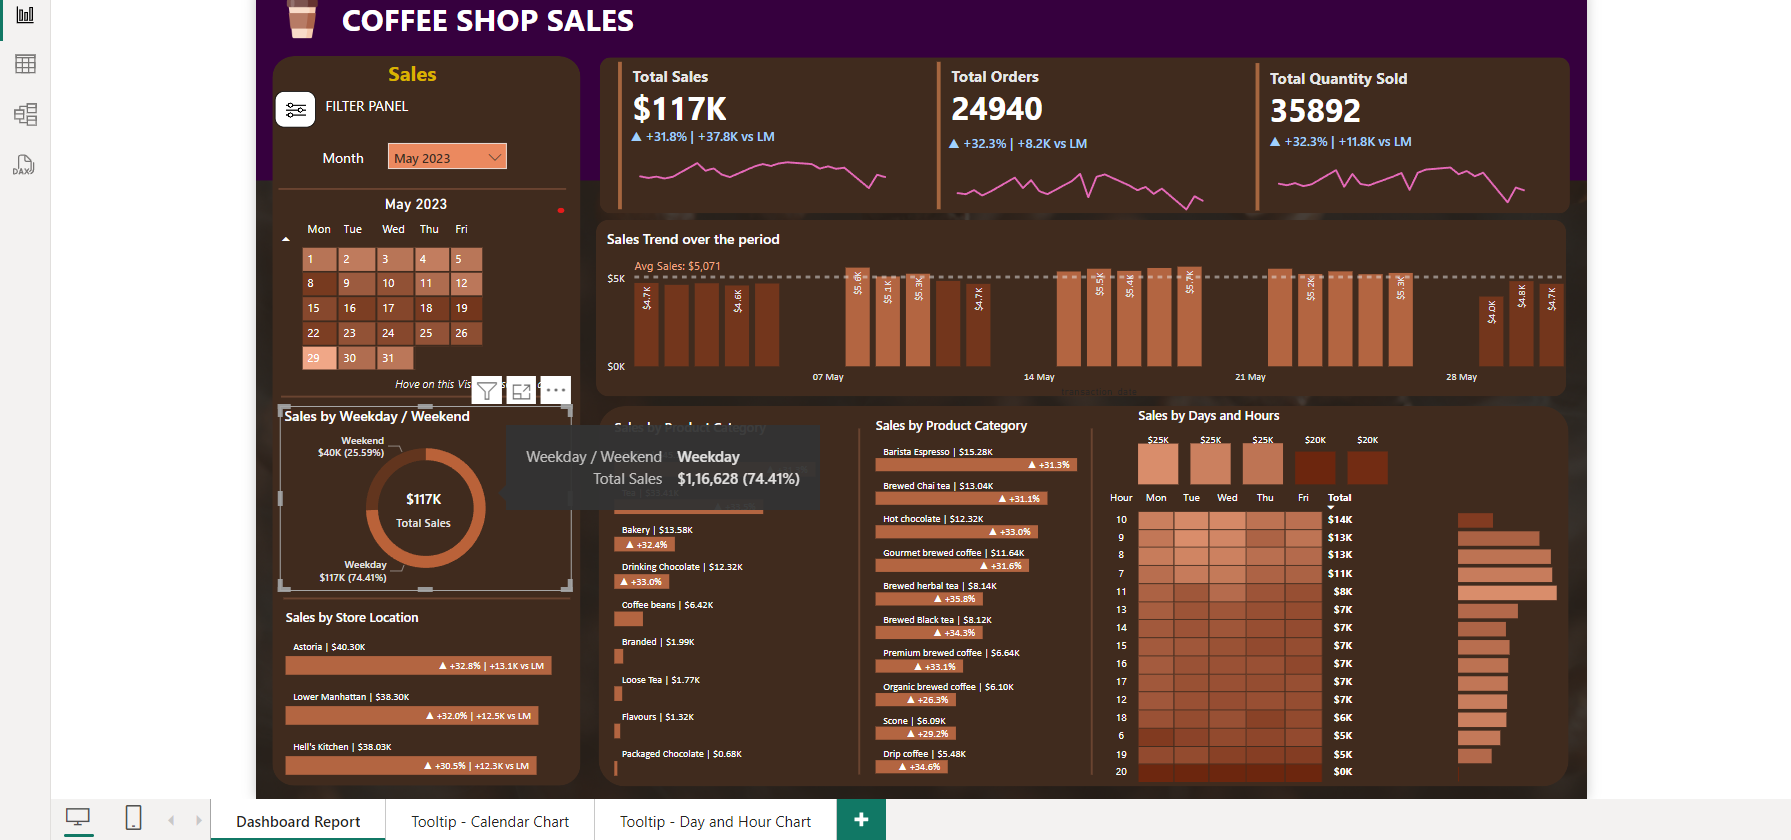

The page's visual inventory and layout, read from the dashboard file:
{"tool":"powerbi","page":{"name":"Dashboard Report","canvas":[1400,850],"ordinal":0},"visuals":[{"type":"shape","box":[0,0,1400.1,199.4],"z":0},{"type":"shape","box":[360,435.7,1020,400],"z":1000},{"type":"shape","box":[17.4,67.7,324.3,767.1],"z":2000},{"type":"shape","box":[361.1,69.1,1020,164.3],"z":3000},{"type":"textbox","box":[85.7,2.9,327.1,68.6],"z":4000},{"type":"cardVisual","fields":{"Data":["Transactions.Total Sales"]},"box":[375.7,70,300.5,165.2],"z":4000,"group":"g1"},{"type":"cardVisual","fields":{"Data":["Transactions.Total Orders"]},"box":[711.1,70,300.5,165.2],"z":4000,"group":"g2"},{"type":"cardVisual","fields":{"Data":["Transactions.Total Quantity"]},"box":[1046.6,71.5,300.5,165.2],"z":4000,"group":"g3"},{"type":"slicer","fields":{"Values":["Date Table.Month Year"]},"box":[134.3,155.7,134.3,48.6],"z":5000},{"type":"lineChart","fields":{"Y":["Transactions.Total Sales"],"Category":["Date Table.Date.Variation.Date Hierarchy.Year","Date Table.Date.Variation.Date Hierarchy.Quarter","Date Table.Date.Variation.Date Hierarchy.Month","Date Table.Date.Variation.Date Hierarchy.Day"]},"box":[388.5,144.1,287.7,85.5],"z":5001,"group":"g1"},{"type":"lineChart","fields":{"Y":["Transactions.Total Quantity Sold"],"Category":["Date Table.Date.Variation.Date Hierarchy.Year","Date Table.Date.Variation.Date Hierarchy.Quarter","Date Table.Date.Variation.Date Hierarchy.Month","Date Table.Date.Variation.Date Hierarchy.Day"]},"box":[1060.7,149,287.7,85.5],"z":5001,"group":"g3"},{"type":"lineChart","fields":{"Y":["Transactions.Total Orders"],"Category":["Date Table.Date.Variation.Date Hierarchy.Year","Date Table.Date.Variation.Date Hierarchy.Quarter","Date Table.Date.Variation.Date Hierarchy.Month","Date Table.Date.Variation.Date Hierarchy.Day"]},"box":[722.8,151.7,287.7,85.5],"z":5001,"group":"g2"},{"type":"group","id":"g1","title":"Group 1","box":[375.7,70,300.5,165.2],"z":6000},{"type":"group","id":"g2","title":"Group 1","box":[711.1,70,300.5,166.6],"z":7000},{"type":"group","id":"g3","title":"Group 1","box":[1046.6,71.5,301.9,165.2],"z":8000},{"type":"pivotTable","fields":{"Rows":["Date Table.Week Number"],"Columns":["Date Table.Day Name"],"Values":["Min(Date Table.Day Number)"]},"box":[17.5,233.8,313.8,191.2],"z":9000},{"type":"card","fields":{"Values":["Min(Date Table.Month Year)"]},"box":[100,202.5,137.5,45],"z":10000},{"type":"card","fields":{"Values":["Transactions.Footnote"]},"box":[132.5,400,208.8,32.5],"z":11000},{"type":"shape","box":[25.7,410,302.9,32.9],"z":12000},{"type":"shape","box":[23.8,191.2,302.5,32.5],"z":13000},{"type":"donutChart","title":"Sales by Weekday / Weekend","fields":{"Y":["Transactions.Total Sales"],"Category":["Date Table.Weekday / Weekend"]},"box":[25,436.2,307.5,195],"z":14000},{"type":"card","fields":{"Values":["Transactions.Total Sales"]},"box":[128.8,518.8,95,51.2],"z":15000},{"type":"shape","box":[28.6,622.9,301.4,31.4],"z":16000},{"type":"shape","box":[357.1,240,1020,185.7],"z":17000},{"type":"clusteredBarChart","title":"Sales by Store Location","fields":{"Category":["Transactions.store_location"],"Y":["Transactions.Placeholder","Transactions.Total Sales"]},"box":[25.7,648.6,317.1,182.9],"z":18000},{"type":"columnChart","title":"Sales Trend over the period","fields":{"Category":["Transactions.transaction_date"],"Y":["Transactions.Total Sales"]},"box":[363.4,250.3,1020,182.9],"z":19000},{"type":"shape","box":[615.7,460.6,35.7,363.7],"z":20000},{"type":"clusteredBarChart","title":"Sales by Product Category","fields":{"Y":["Transactions.Placeholder","Transactions.Total Sales"],"Category":["Transactions.product_category"]},"box":[372,450,250,381.4],"z":21000},{"type":"clusteredBarChart","title":"Sales by Product Category","fields":{"Y":["Transactions.Placeholder","Transactions.Total Sales"],"Category":["Transactions.product_type"]},"box":[646.6,447.4,250,381.4],"z":22000},{"type":"shape","box":[861.4,460,35.7,364.3],"z":23000},{"type":"pivotTable","fields":{"Rows":["Transactions.Hour"],"Columns":["Date Table.Day Name"],"Values":["Transactions.Total Sales"]},"box":[887.1,520,370,318.6],"z":24000},{"type":"barChart","fields":{"Category":["Transactions.Hour"],"Y":["Transactions.Total Sales"]},"box":[1258.6,535.7,122.9,300],"z":25000},{"type":"columnChart","title":"Sales by Days and Hours","fields":{"Category":["Date Table.Day Name"],"Y":["Transactions.Total Sales"]},"box":[922.9,435.7,274.3,88.6],"z":26000},{"type":"textbox","box":[48.6,160,85.7,44.3],"z":27000},{"type":"textbox","box":[134.3,67.1,90,52.9],"z":28000},{"type":"textbox","box":[48.6,105.7,135.7,41.4],"z":29000},{"type":"image","box":[20,105.7,42.9,38.6],"z":30000},{"type":"image","box":[11.4,0,74.3,54.3],"z":31000}]}

Visuals, with their boxes on the page's 1400x850 design canvas (x1, y1, x2, y2). These are canvas units, not pixel positions in the 1791x840 screenshot, which may show the page scaled, cropped or inside an application window:
shape: {"x1": 0, "y1": 0, "x2": 1400, "y2": 199}
shape: {"x1": 360, "y1": 436, "x2": 1380, "y2": 836}
shape: {"x1": 17, "y1": 68, "x2": 342, "y2": 835}
shape: {"x1": 361, "y1": 69, "x2": 1381, "y2": 233}
textbox: {"x1": 86, "y1": 3, "x2": 413, "y2": 72}
cardVisual - Transactions.Total Sales: {"x1": 376, "y1": 70, "x2": 676, "y2": 235}
cardVisual - Transactions.Total Orders: {"x1": 711, "y1": 70, "x2": 1012, "y2": 235}
cardVisual - Transactions.Total Quantity: {"x1": 1047, "y1": 72, "x2": 1347, "y2": 237}
slicer - Date Table.Month Year: {"x1": 134, "y1": 156, "x2": 269, "y2": 204}
lineChart - Transactions.Total Sales x Date Table.Date.Variation.Date Hierarchy.Year: {"x1": 388, "y1": 144, "x2": 676, "y2": 230}
lineChart - Transactions.Total Quantity Sold x Date Table.Date.Variation.Date Hierarchy.Year: {"x1": 1061, "y1": 149, "x2": 1348, "y2": 234}
lineChart - Transactions.Total Orders x Date Table.Date.Variation.Date Hierarchy.Year: {"x1": 723, "y1": 152, "x2": 1010, "y2": 237}
"Group 1" group: {"x1": 376, "y1": 70, "x2": 676, "y2": 235}
"Group 1" group: {"x1": 711, "y1": 70, "x2": 1012, "y2": 237}
"Group 1" group: {"x1": 1047, "y1": 72, "x2": 1348, "y2": 237}
pivotTable - Date Table.Week Number x Date Table.Day Name: {"x1": 18, "y1": 234, "x2": 331, "y2": 425}
card - Min(Date Table.Month Year): {"x1": 100, "y1": 202, "x2": 238, "y2": 248}
card - Transactions.Footnote: {"x1": 132, "y1": 400, "x2": 341, "y2": 432}
shape: {"x1": 26, "y1": 410, "x2": 329, "y2": 443}
shape: {"x1": 24, "y1": 191, "x2": 326, "y2": 224}
"Sales by Weekday / Weekend" donutChart: {"x1": 25, "y1": 436, "x2": 332, "y2": 631}
card - Transactions.Total Sales: {"x1": 129, "y1": 519, "x2": 224, "y2": 570}
shape: {"x1": 29, "y1": 623, "x2": 330, "y2": 654}
shape: {"x1": 357, "y1": 240, "x2": 1377, "y2": 426}
"Sales by Store Location" clusteredBarChart: {"x1": 26, "y1": 649, "x2": 343, "y2": 832}
"Sales Trend over the period" columnChart: {"x1": 363, "y1": 250, "x2": 1383, "y2": 433}
shape: {"x1": 616, "y1": 461, "x2": 651, "y2": 824}
"Sales by Product Category" clusteredBarChart: {"x1": 372, "y1": 450, "x2": 622, "y2": 831}
"Sales by Product Category" clusteredBarChart: {"x1": 647, "y1": 447, "x2": 897, "y2": 829}
shape: {"x1": 861, "y1": 460, "x2": 897, "y2": 824}
pivotTable - Transactions.Hour x Date Table.Day Name: {"x1": 887, "y1": 520, "x2": 1257, "y2": 839}
barChart - Transactions.Hour x Transactions.Total Sales: {"x1": 1259, "y1": 536, "x2": 1382, "y2": 836}
"Sales by Days and Hours" columnChart: {"x1": 923, "y1": 436, "x2": 1197, "y2": 524}
textbox: {"x1": 49, "y1": 160, "x2": 134, "y2": 204}
textbox: {"x1": 134, "y1": 67, "x2": 224, "y2": 120}
textbox: {"x1": 49, "y1": 106, "x2": 184, "y2": 147}
image: {"x1": 20, "y1": 106, "x2": 63, "y2": 144}
image: {"x1": 11, "y1": 0, "x2": 86, "y2": 54}
